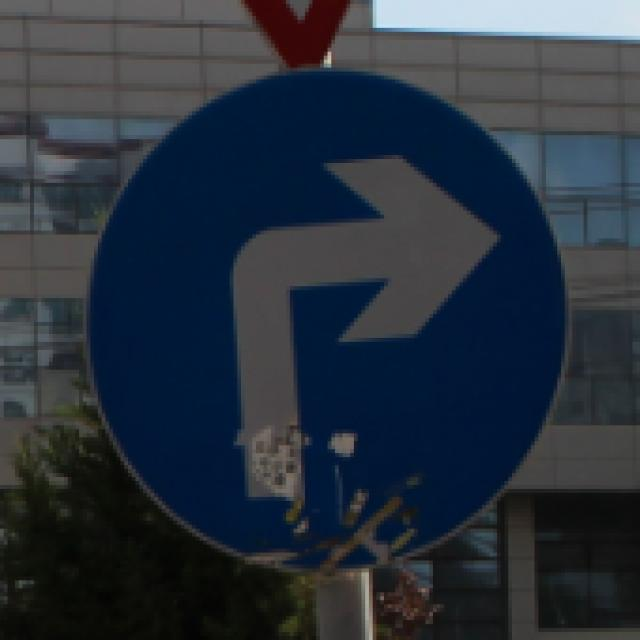Right: (76, 61, 576, 556)
